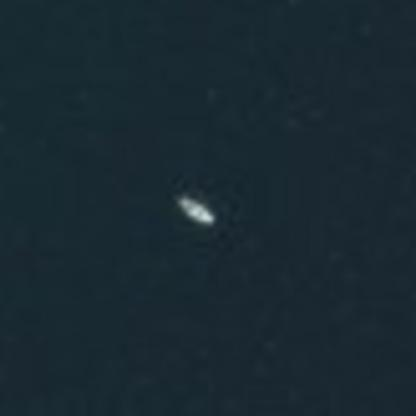ship: (164, 184, 224, 233)
